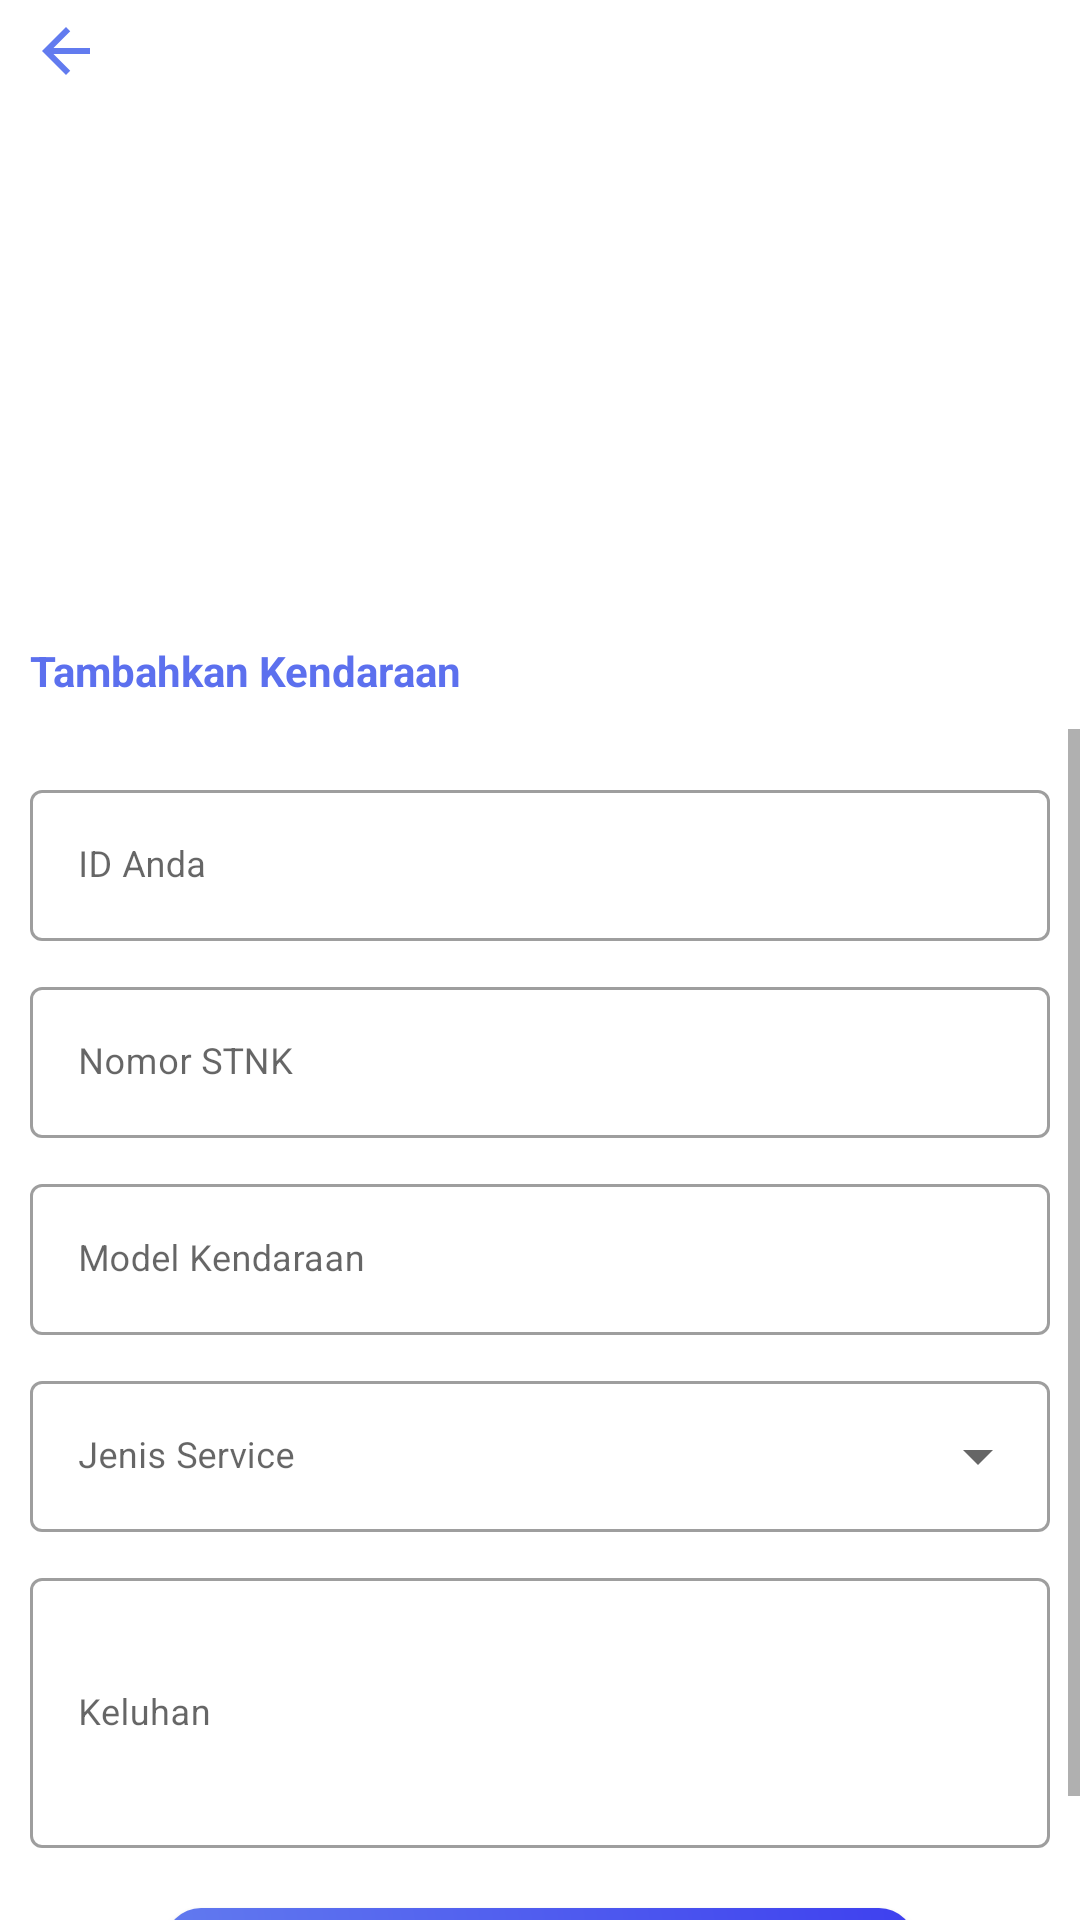

Screen size 1080w x 1920h. Icon name, then its box in pixels as (x1, y1, x2, y2):
arrow back: (42, 27, 90, 75)
